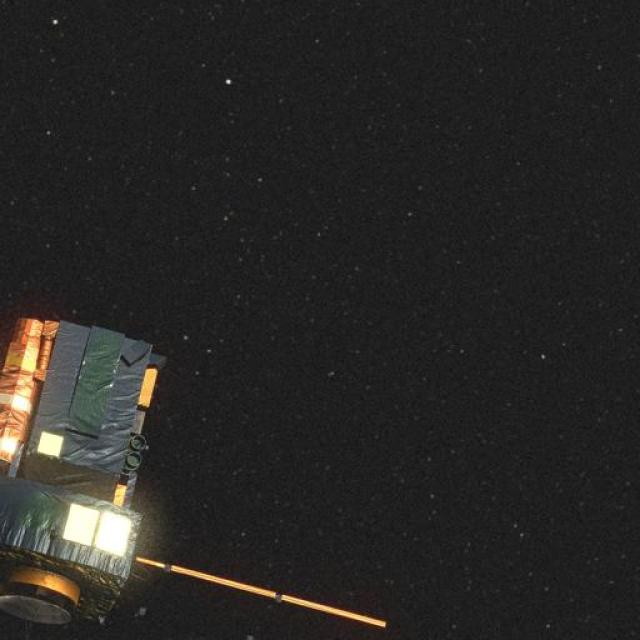soho: (0, 330, 184, 640)
